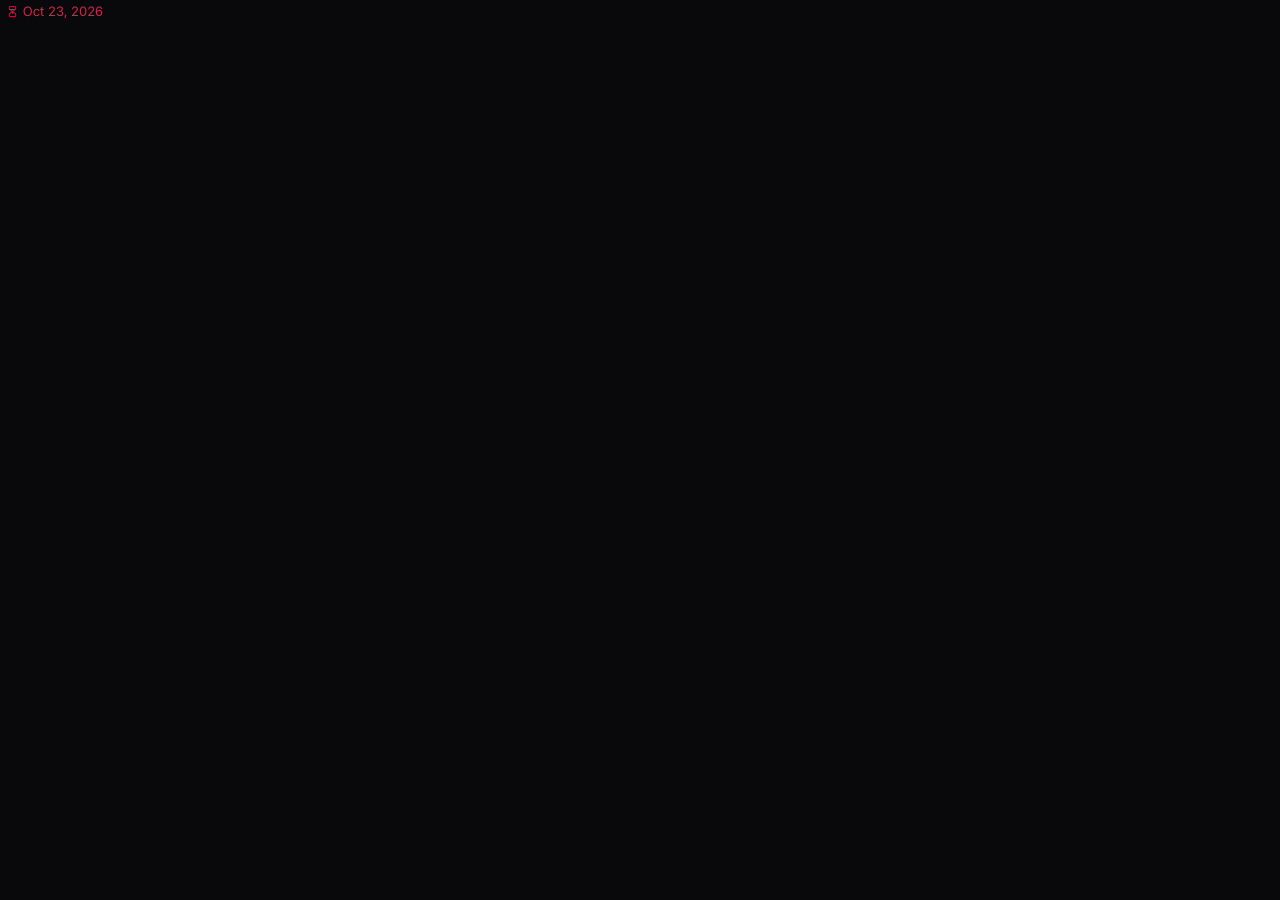
Scenario: TaskDateChip for the deadline (M33) › test the deadline chip edits the deadline, not the date
Click the button with aria-label "Deadline: Oct 23, 2026". click: point(54, 12)
box: [0,0,109,23]
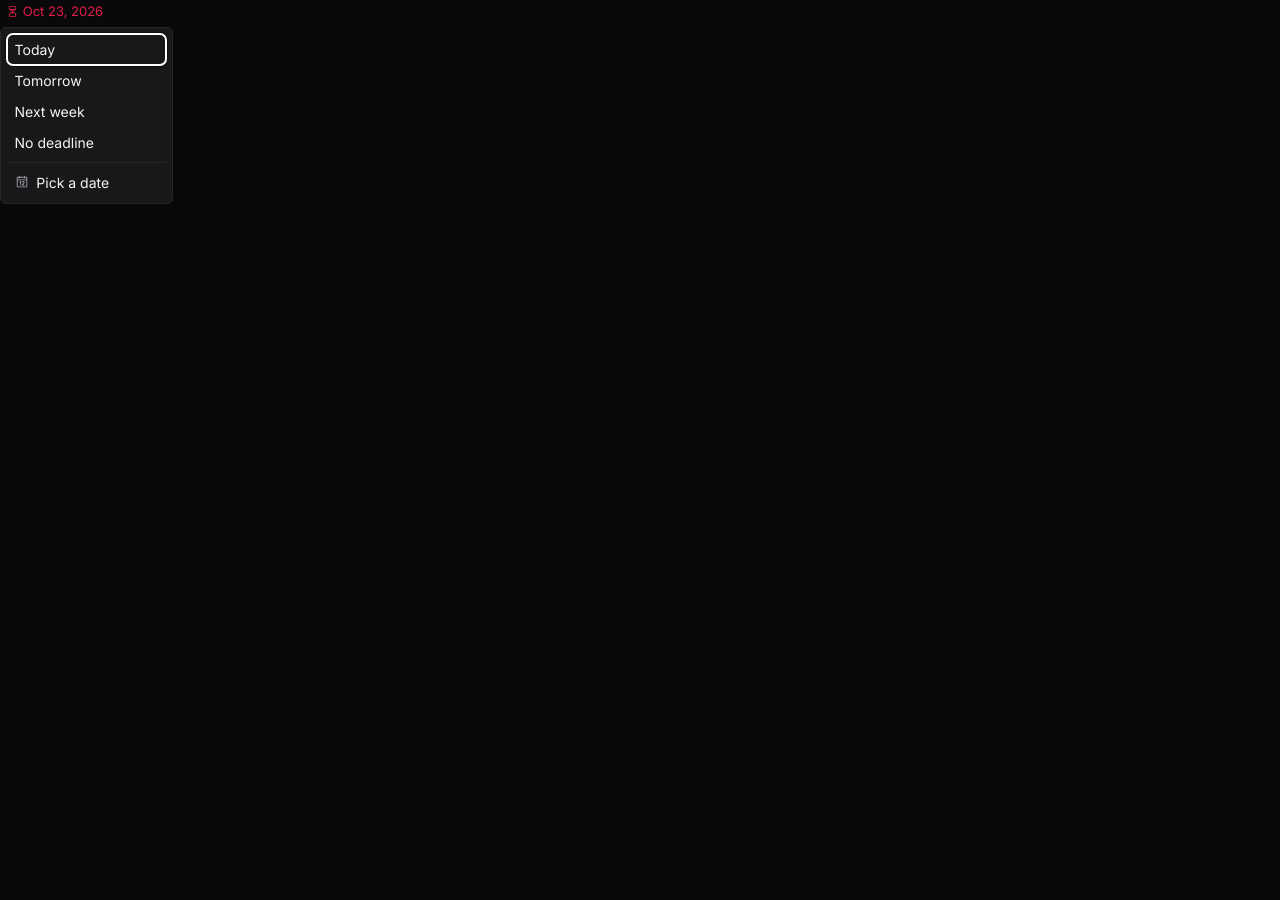
Result: the menu items read "Today", "Tomorrow", "Next week", "No deadline", "Pick a date", in this order
Click the menu item "Tomorrow". click: point(86, 80)
box: [7,65,166,96]
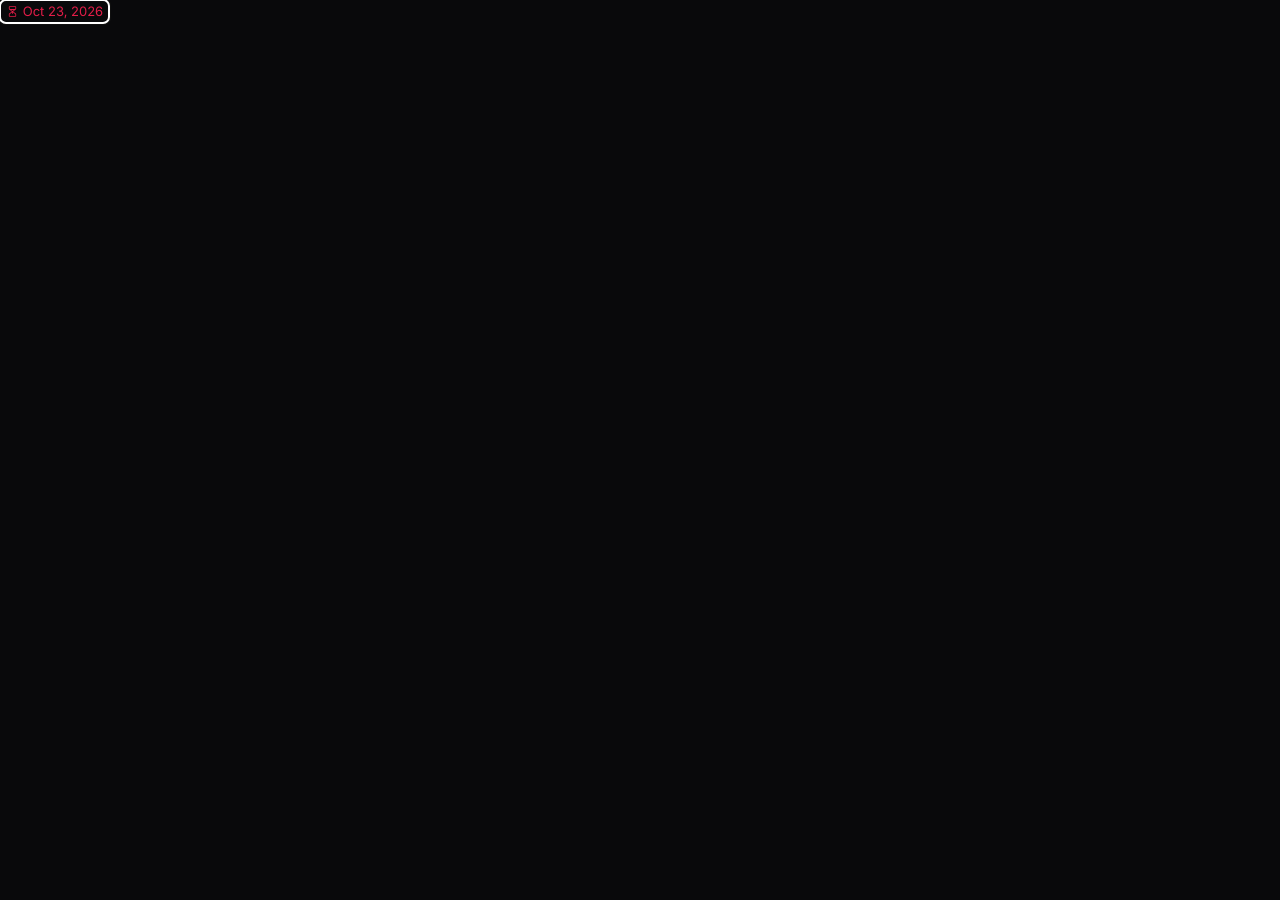
Result: the menu item "deadline" is gone
